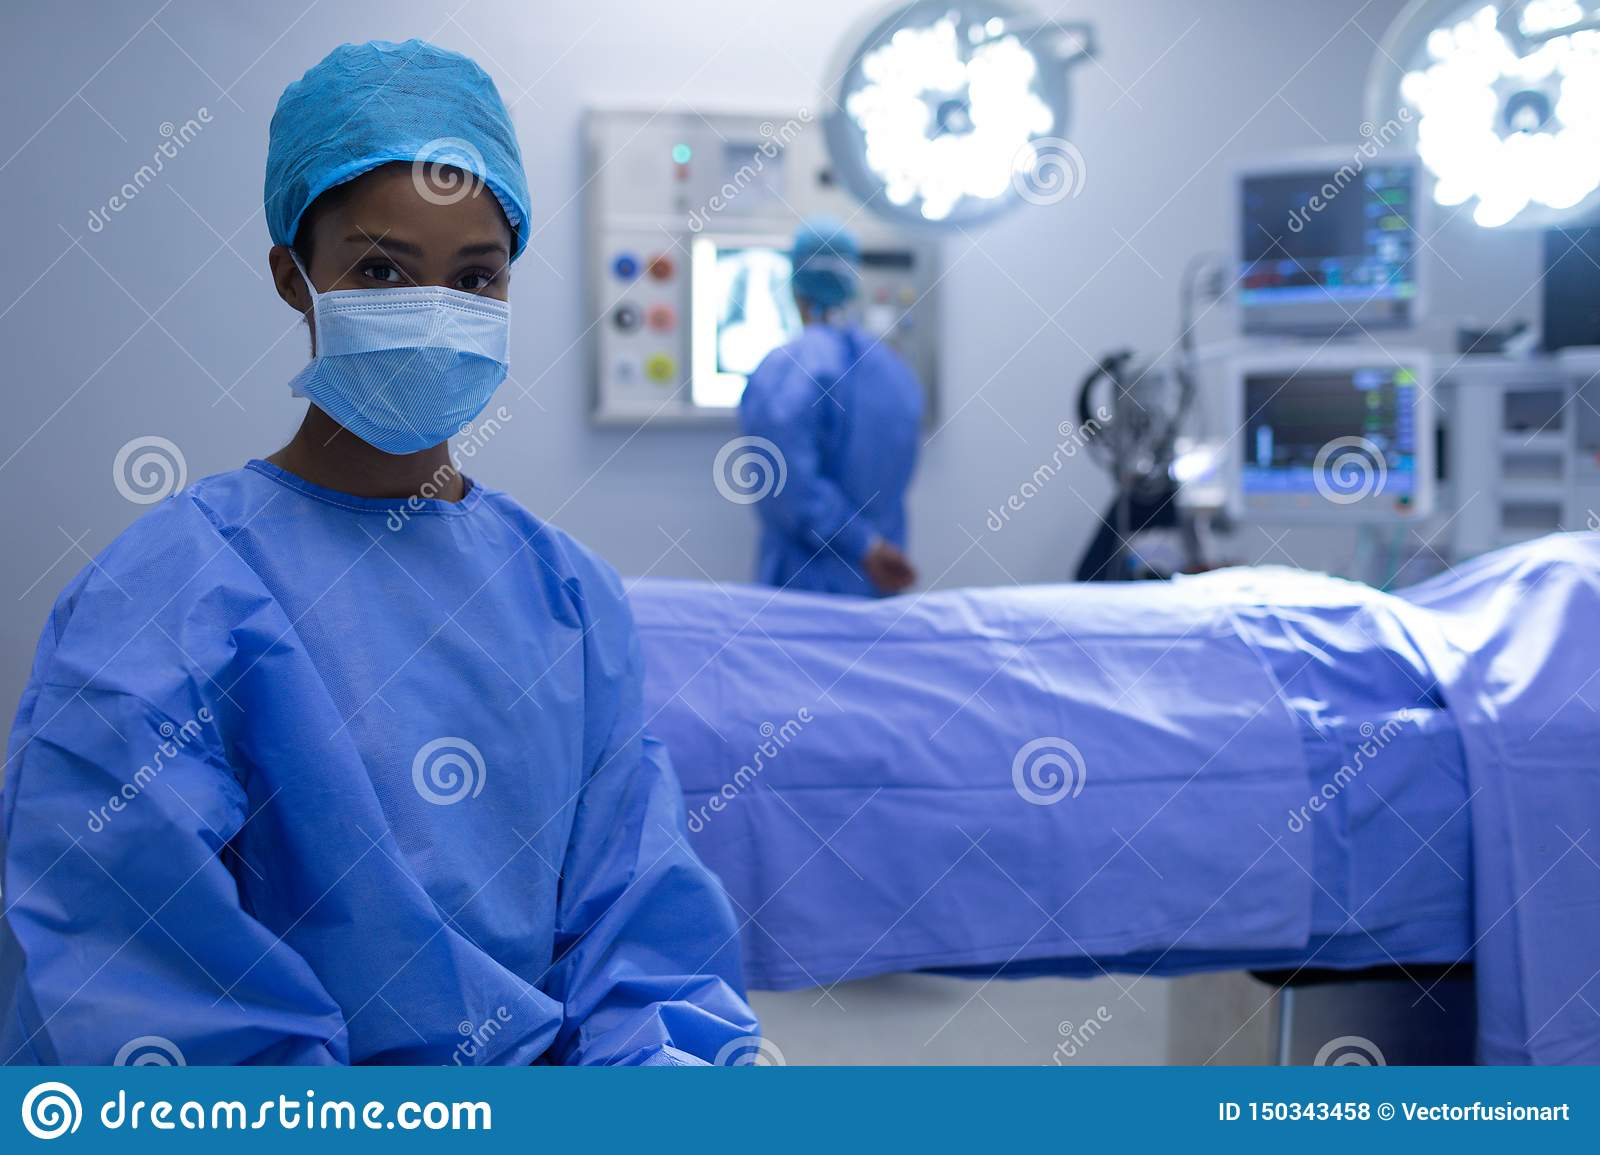mask: (293, 279, 534, 445)
